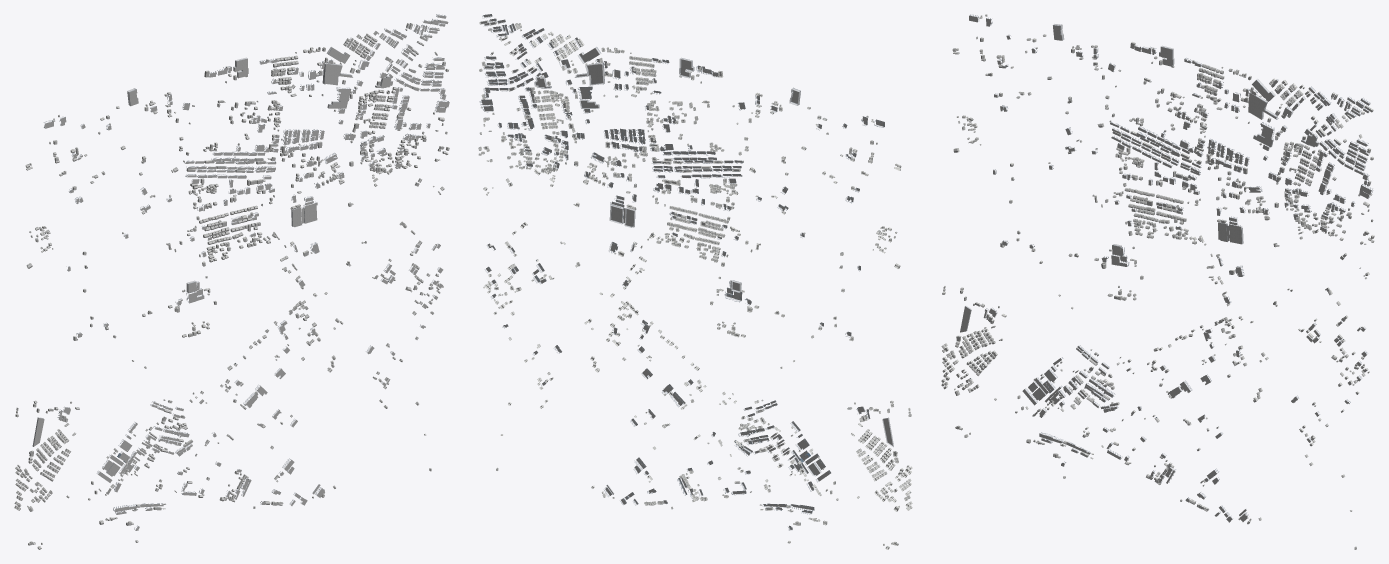
The model's file is buildings_1_1.obj.
3 renders of one model, left to right at view 1: azimuth 30°, elevation 25°; view 2: azimuth 150°, elevation 25°; view 3: azimuth 330°, elevation 25°, orthographic.
Bounding box in the file's own units: 2011 × 2042 × 23.8.
6 materials, 6 textured.
